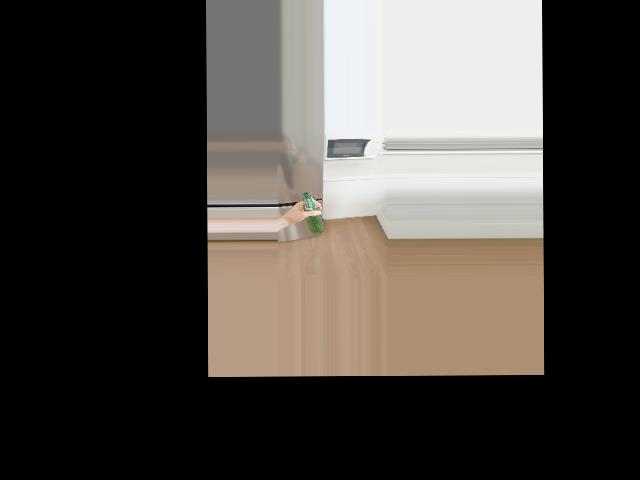beer: (302, 192, 324, 234)
